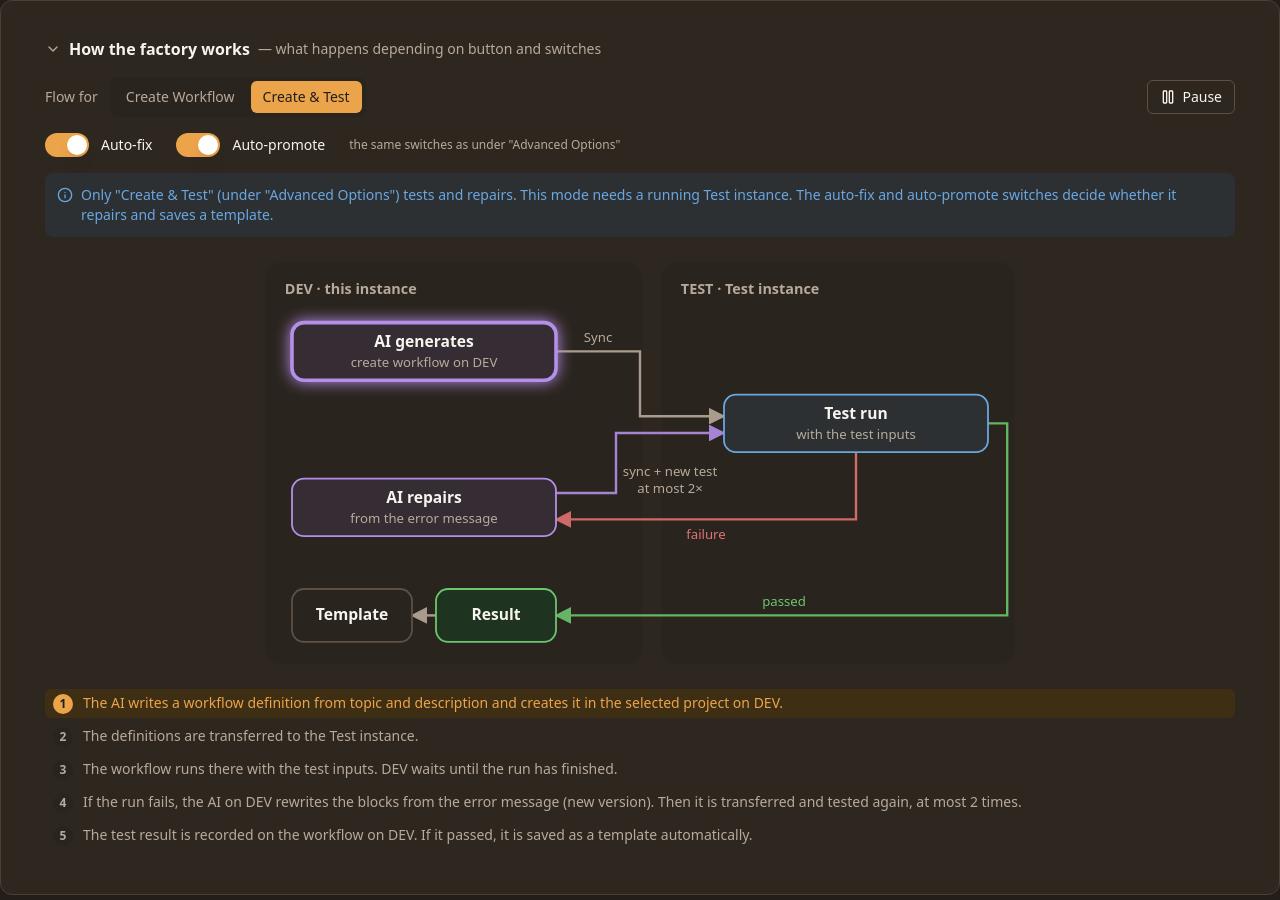
Test case: FactoryFlowDiagram › create mode shows that nothing runs on the Test instance
This screenshot has width=1280, height=900.
Click the tab "Create Workflow".
click(180, 97)  # box [114,81,247,113]
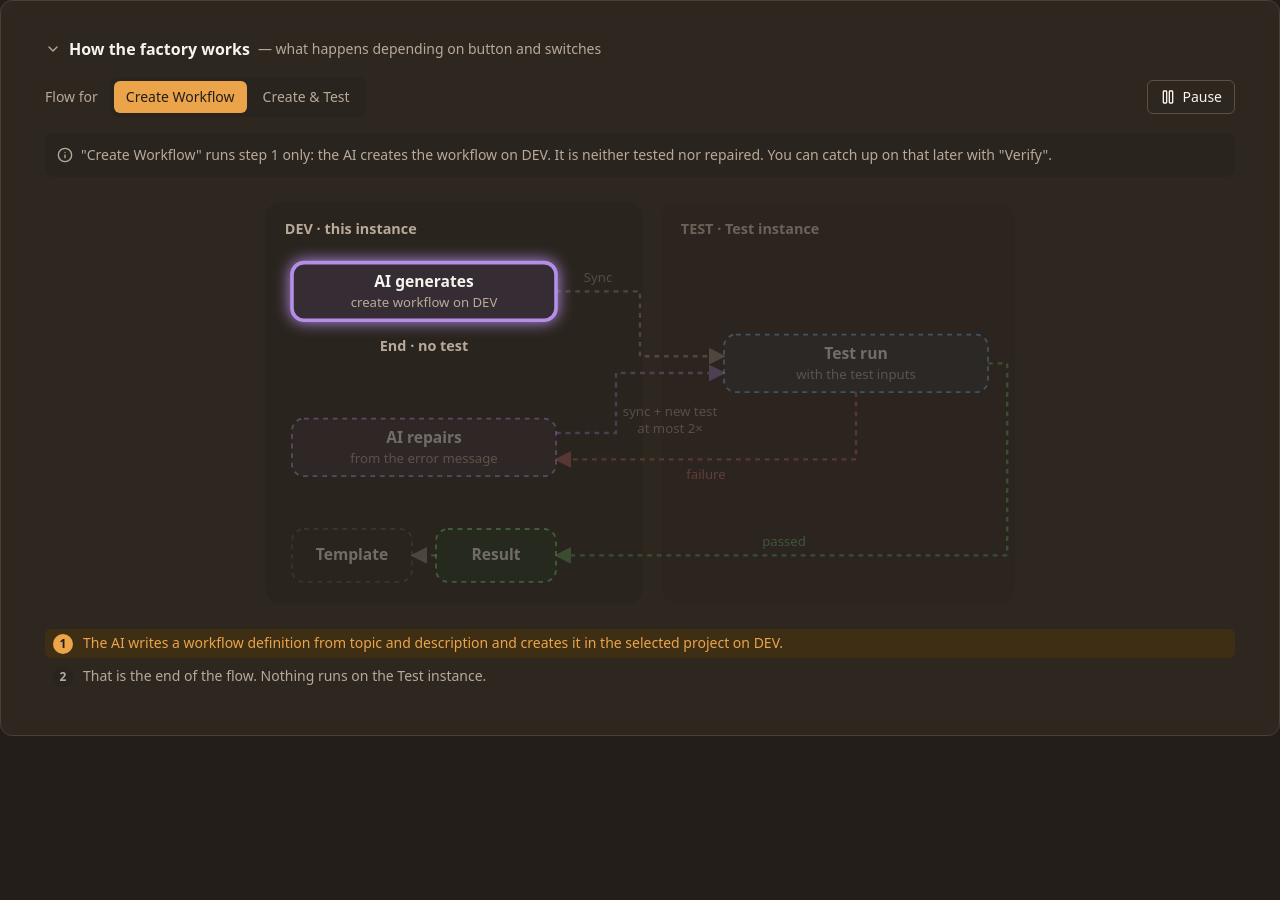
expect the text "runs step 1 only" is shown: met, box [81,145,1052,164]
expect the switch is gone: met
expect the number of list items is 2: met, box [45,629,1235,658]; [53,666,486,687]
